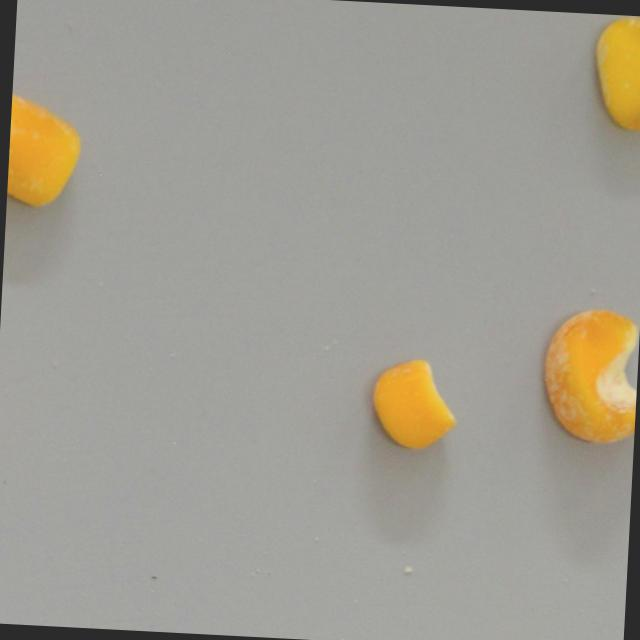no_canjicado: (368, 357, 459, 453), (593, 14, 640, 130)
pelicula: (539, 307, 640, 447), (6, 104, 81, 198)
